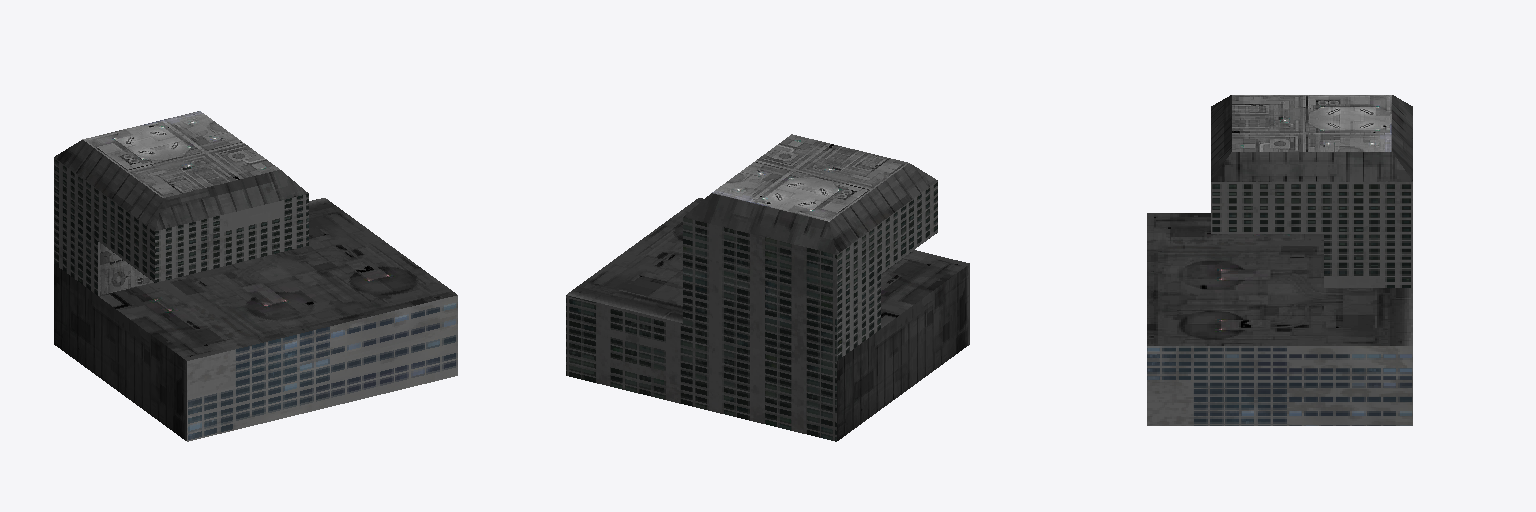
3 renders of one model, left to right at view 1: azimuth 30°, elevation 25°; view 2: azimuth 150°, elevation 25°; view 3: azimuth 270°, elevation 25°, orthographic.
Visible parts, largest first — view 1: building_49; view 2: building_49; view 3: building_49.
Part boxes in pixels (left/top/right/bottom): building_49: left=54, top=111, right=457, bottom=441; building_49: left=566, top=134, right=969, bottom=441; building_49: left=1147, top=95, right=1412, bottom=425.
Size of the model in its own units: 107 by 78.67 by 91.47.
Materials: 1 (1 with a texture image).